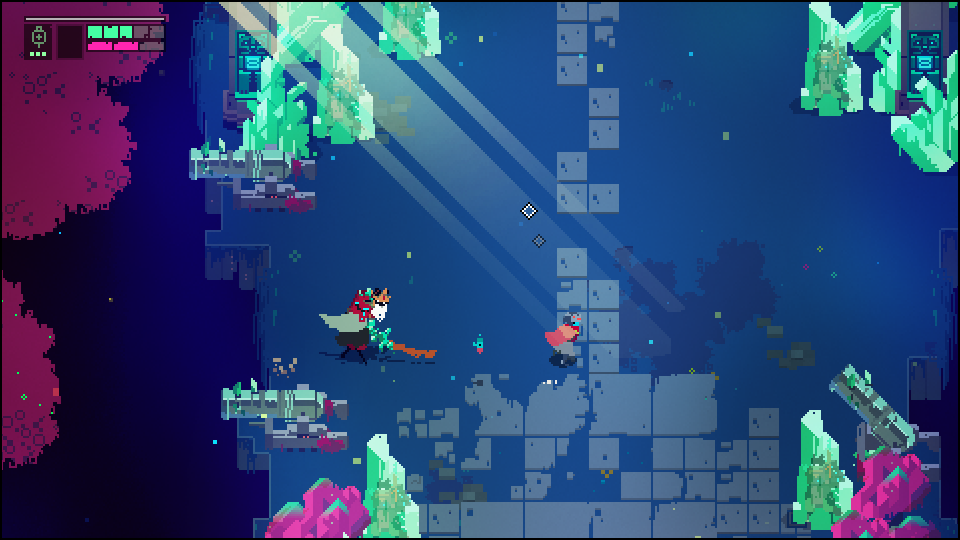hanged_man: (315, 283, 430, 372)
player: (543, 310, 580, 372)
